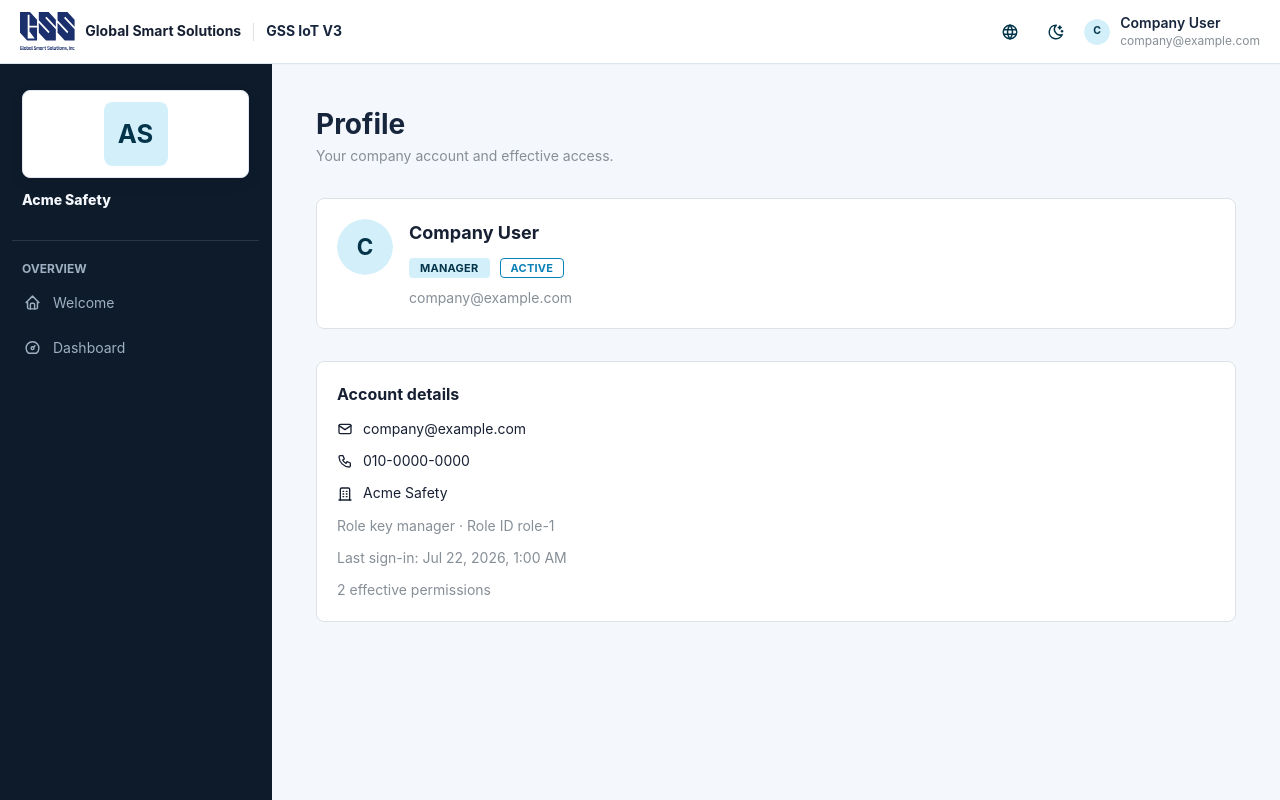
Test: Welcome and profile surfaces › shows account metadata and signs out from the account menu
This screenshot has width=1280, height=800.
Expected: the 1st text "Acme Safety" is shown, top-left (22, 191), bottom-right (111, 208)
Step 1. Click the button with aria-label "Open account menu" → (1172, 32), box top-left (1084, 13), bottom-right (1260, 50)
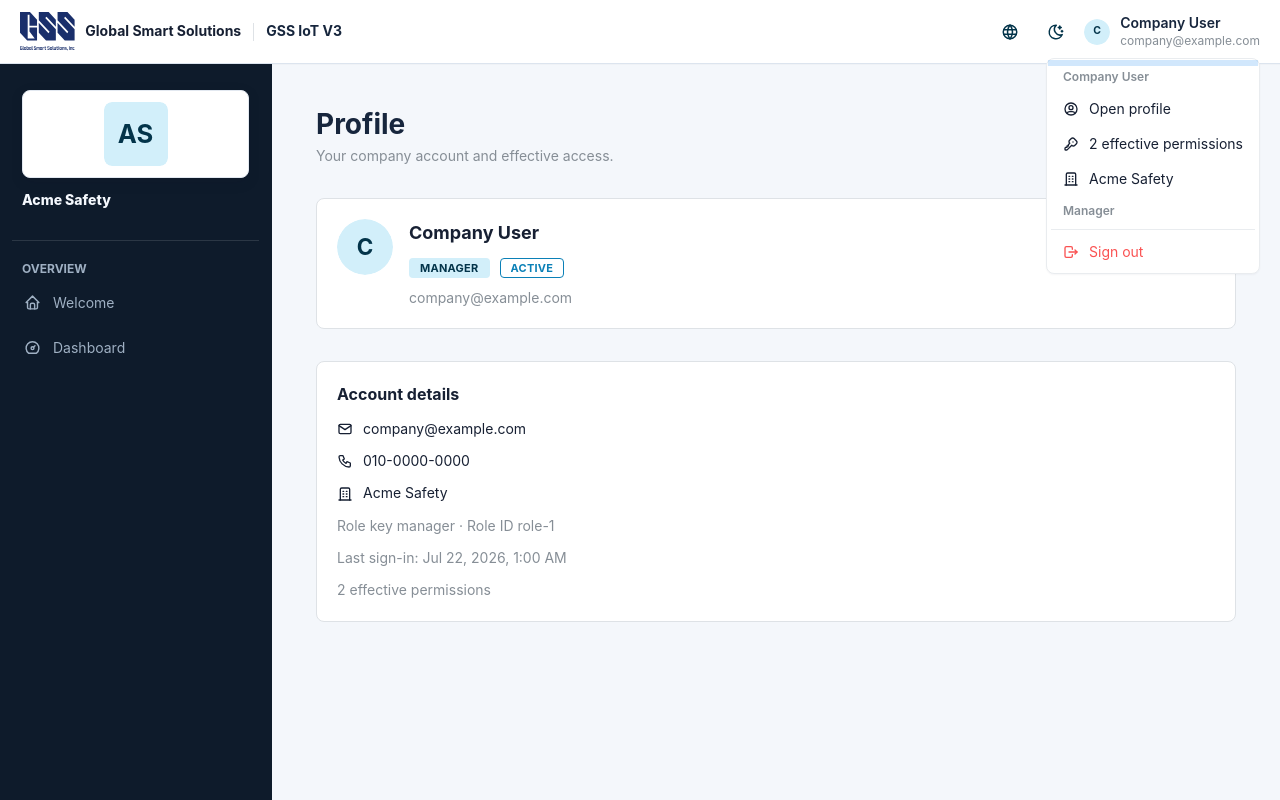
Expected: the text "Manager" next to "Active" is shown, top-left (420, 261), bottom-right (478, 275)
Step 2. Click the menu item "Sign out" → (1153, 252), box top-left (1051, 234), bottom-right (1255, 269)
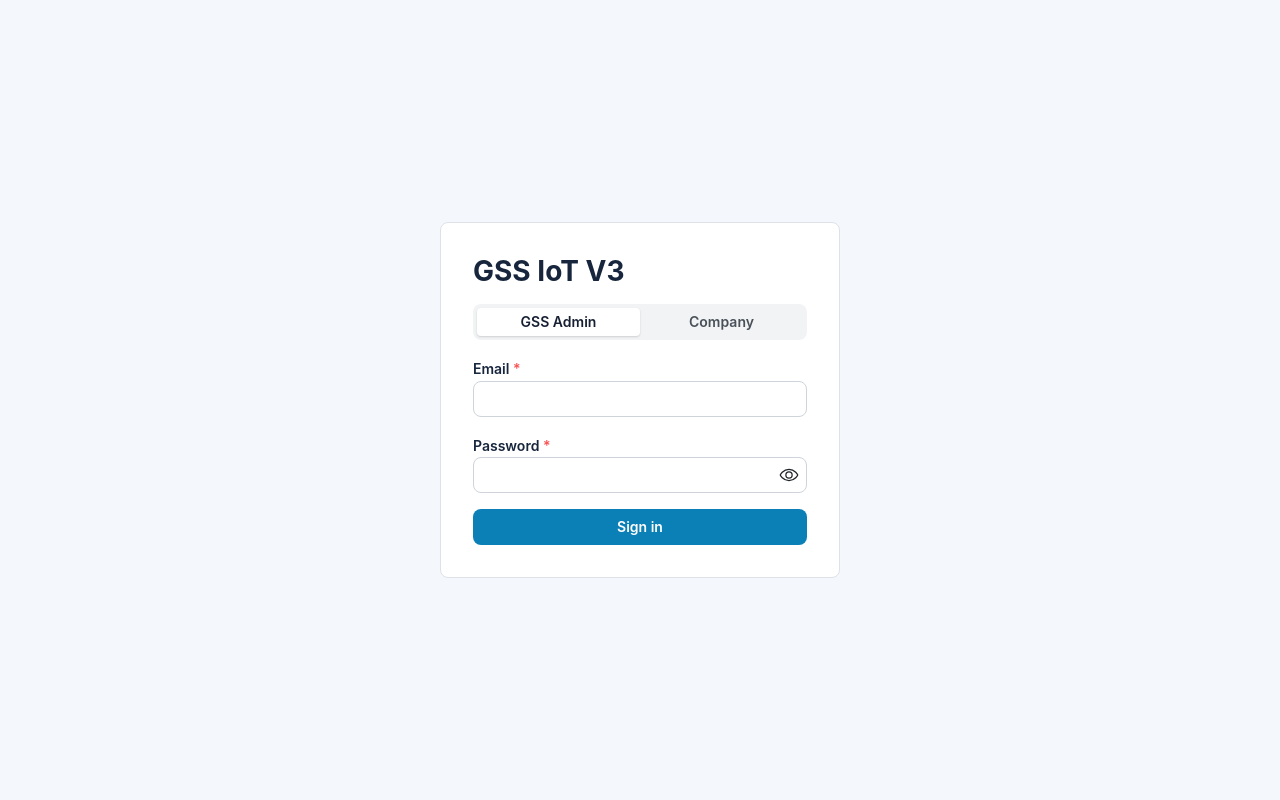
Expected: the button "Sign in" is shown, top-left (473, 509), bottom-right (807, 545)
